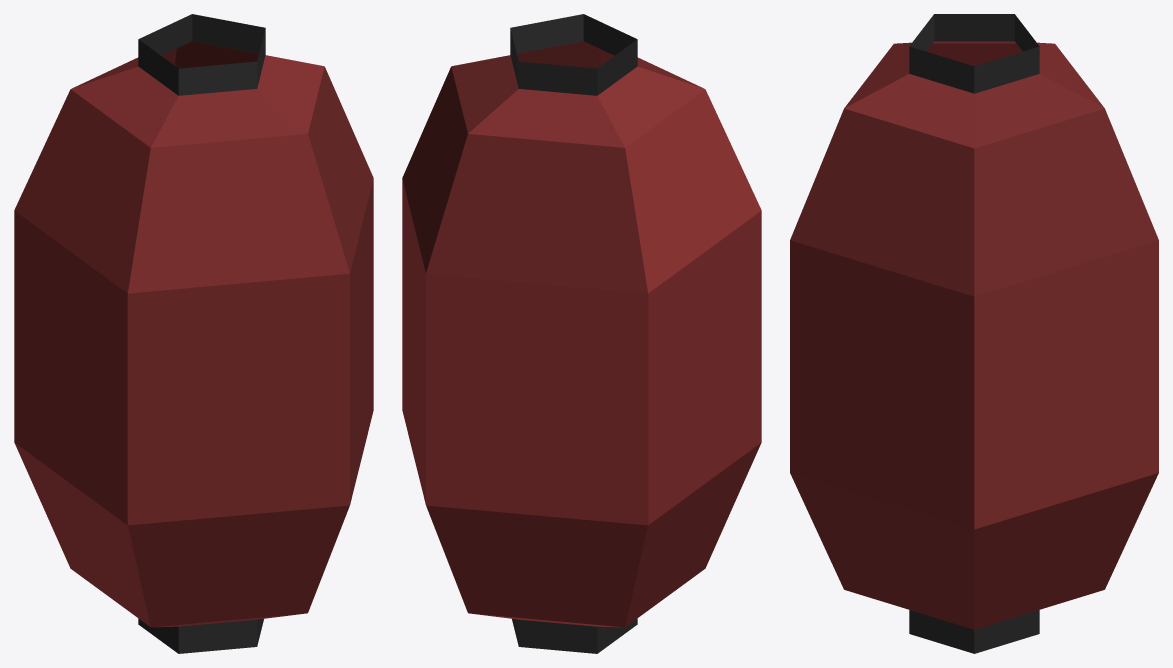
The model's file is Prop_DecorB.fbx.
The picture shows the model from 3 angles, left to right: view 1: azimuth 30°, elevation 25°; view 2: azimuth 150°, elevation 25°; view 3: azimuth 270°, elevation 25°; orthographic projection.
Parts seen in each view (by area): view 1: Prop_DecorB; view 2: Prop_DecorB; view 3: Prop_DecorB.
Part boxes in pixels (x1,y1,x2,y2): Prop_DecorB: (14,14,373,653); Prop_DecorB: (402,14,761,653); Prop_DecorB: (790,14,1158,653).
Size of the model in its own units: 27.14 by 50.14 by 28.53.
